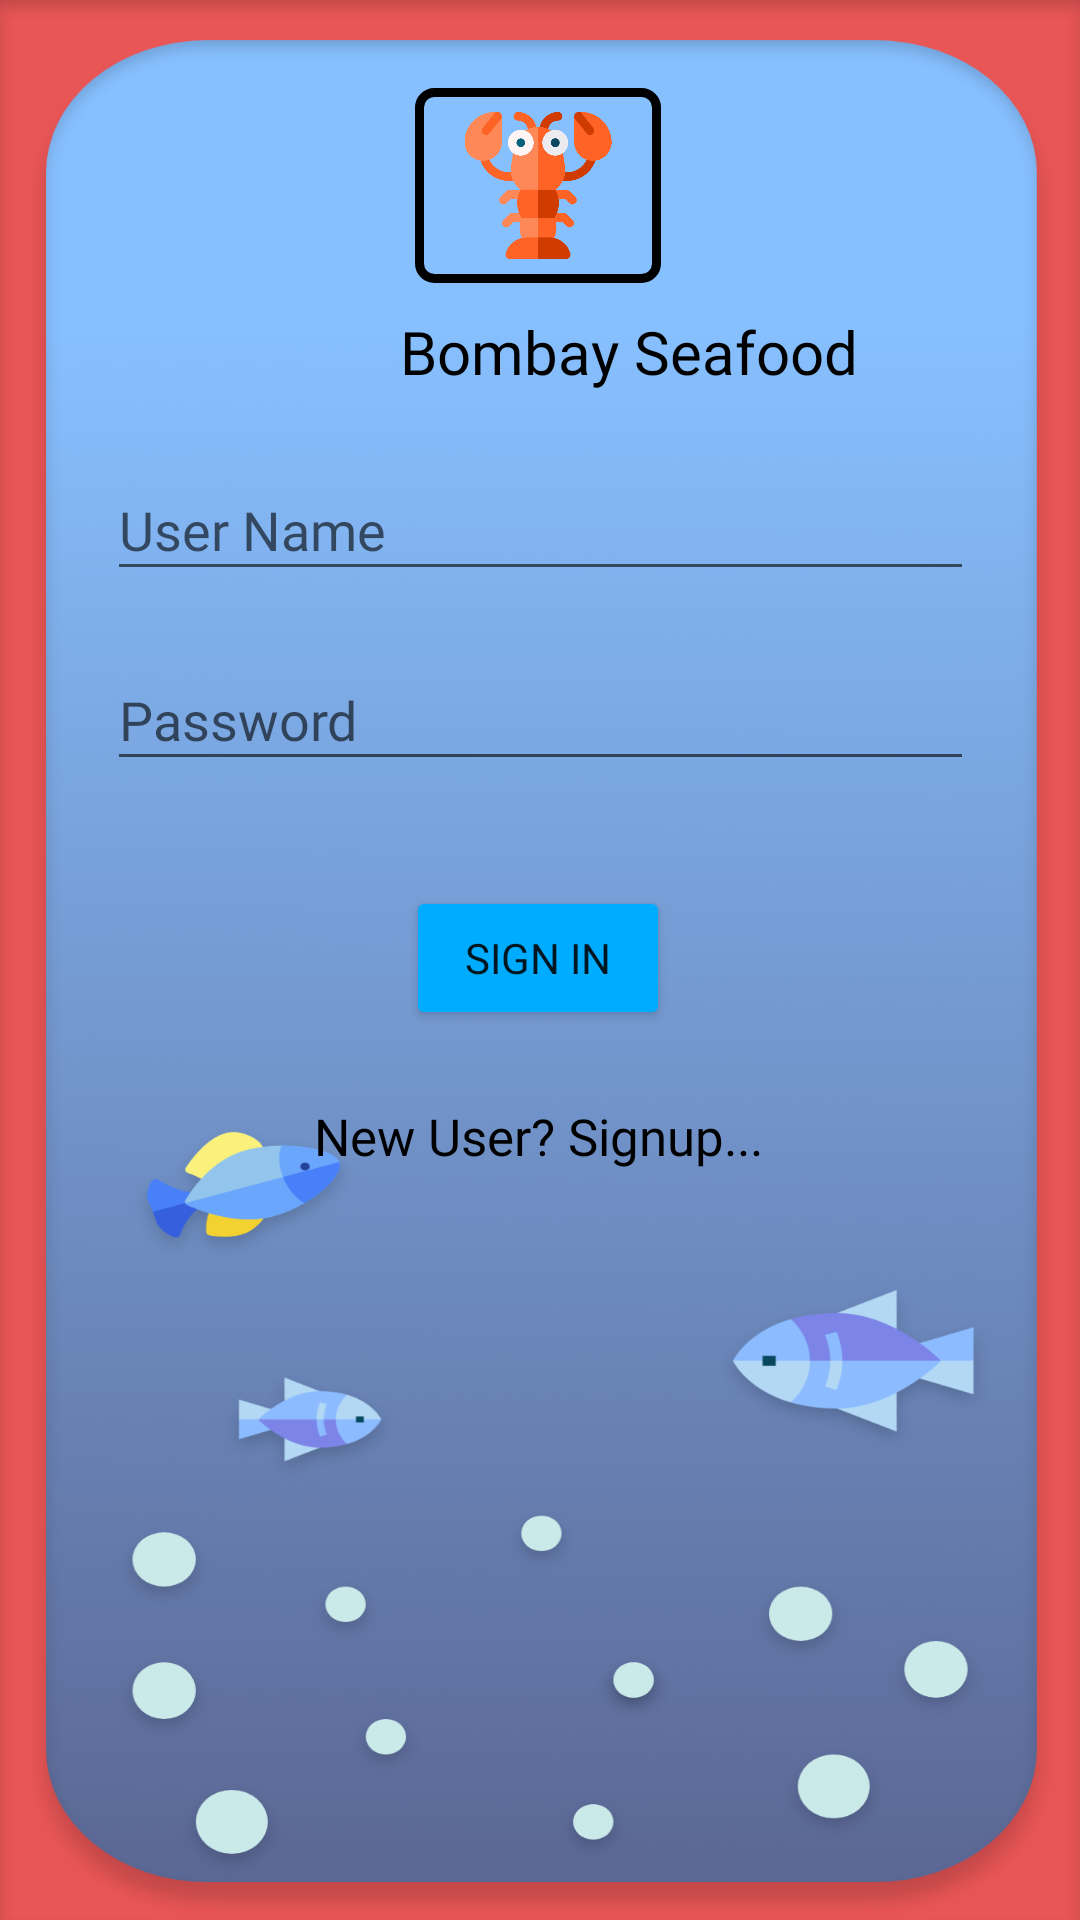

Icon click points for this 1080*1920 phone screenshot, format (x,y):
lobster: (538,185)
